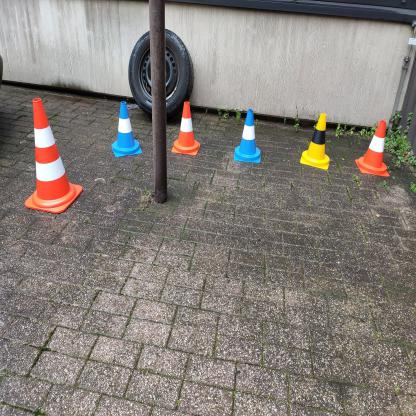Cones_big: (20, 97, 90, 223)
Cones_small_blue: (108, 98, 146, 160), (235, 103, 264, 170)
Cones_small_orange: (356, 114, 394, 186), (171, 96, 207, 165)
Cones_small_yellow: (300, 107, 337, 174)
